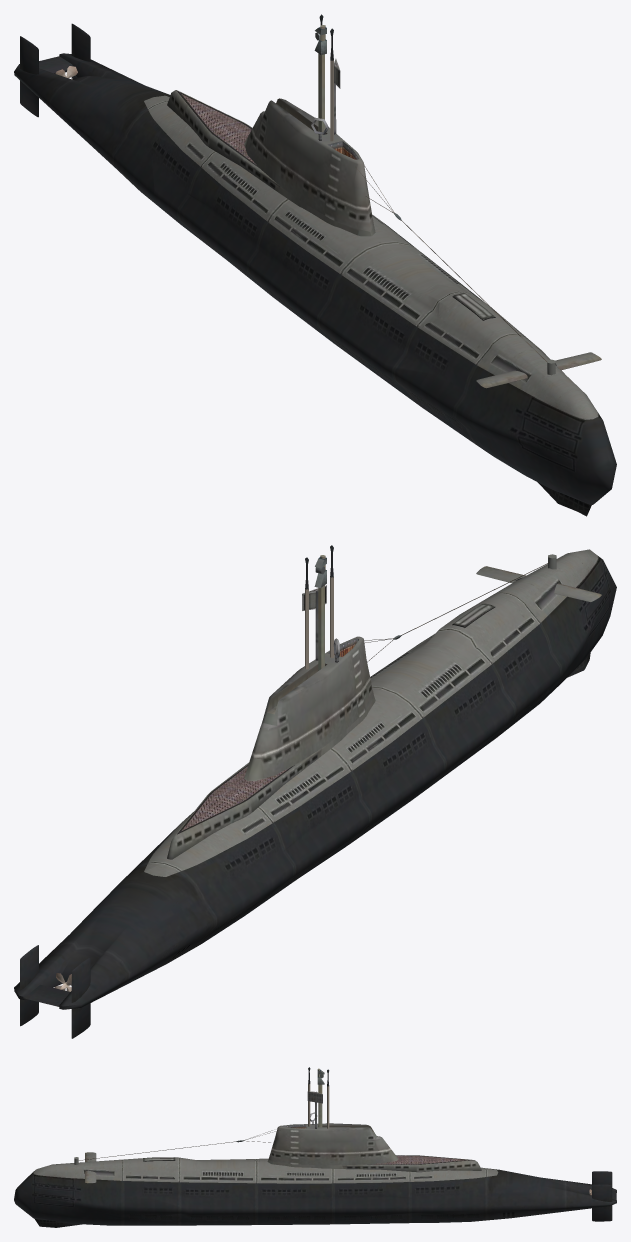
The model's file is XXIXH.dae.
3 renders of one model, top to bottom at view 1: azimuth 30°, elevation 25°; view 2: azimuth 150°, elevation 25°; view 3: azimuth 270°, elevation 25°, orthographic. The views are drawn at different scales.
Parts seen in each view (by area): view 1: XXIXH; view 2: XXIXH; view 3: XXIXH.
Boxes of the visible parts, x1,y1,x2,y2 form: XXIXH: (14, 14, 616, 516); XXIXH: (14, 545, 616, 1038); XXIXH: (14, 1067, 616, 1227).
Bounding box in the file's own units: 90.53 × 205 × 696.
Materials: 1 (1 with a texture image).
